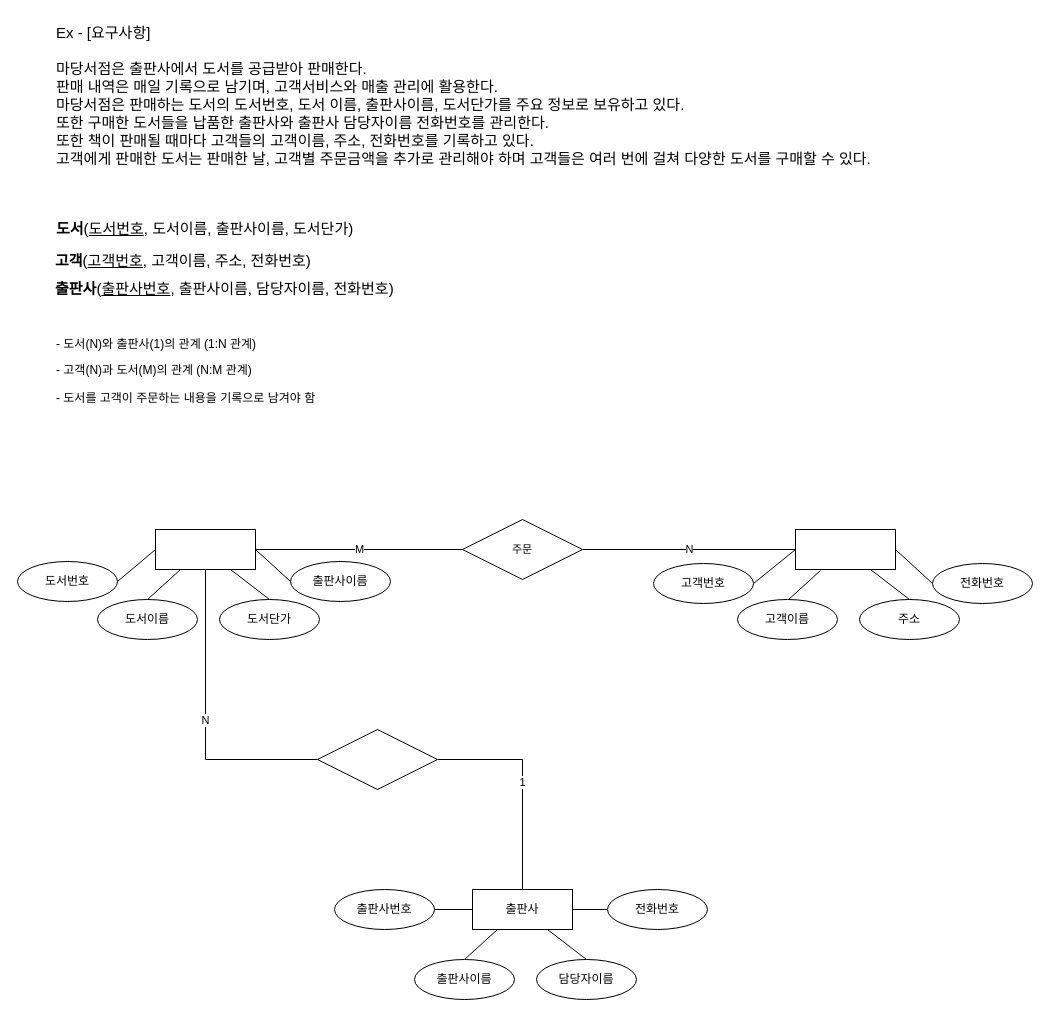
This 1050x1017 diagram has some shape labels left out. The shapes that lost their labels are listed below. From the top down, each one's box as (x1, y1, x2, y2) in pixels, then its label:
(154, 528, 256, 570): 도서
(794, 528, 896, 570): 고객
(316, 728, 438, 790): 납품
